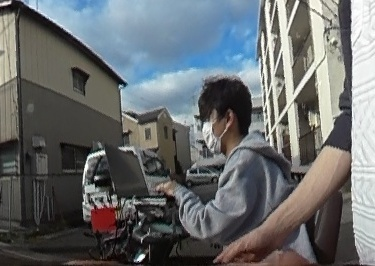person: (164, 81, 311, 266)
